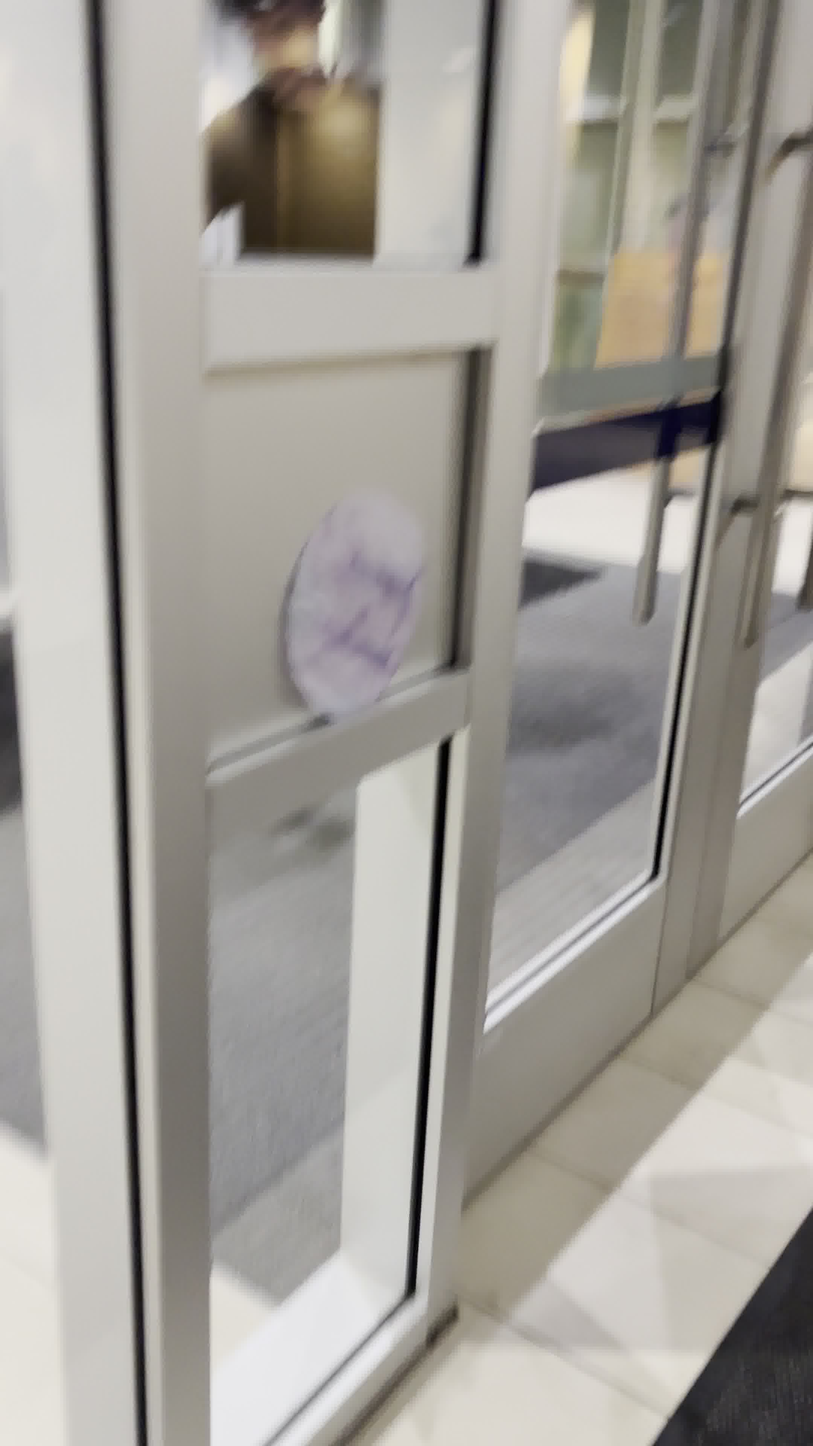Target: (277, 489, 443, 731)
